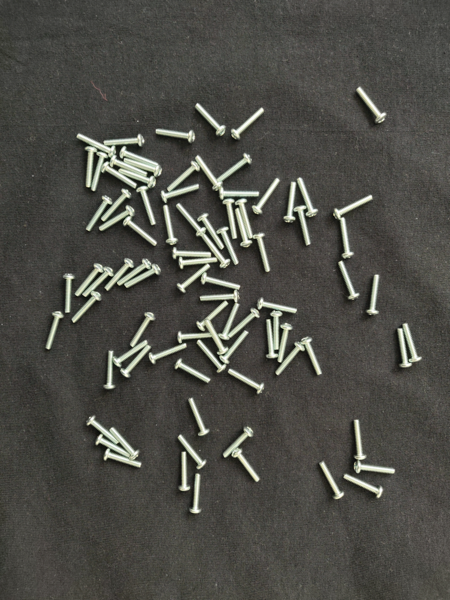longscrew: (354, 86, 390, 125), (198, 231, 231, 269), (335, 258, 362, 303), (221, 425, 255, 460), (230, 107, 265, 141), (251, 176, 280, 217), (194, 101, 227, 137), (215, 153, 253, 184), (342, 473, 385, 500), (166, 160, 201, 193), (100, 188, 133, 223), (103, 257, 135, 293), (176, 263, 212, 295), (122, 216, 158, 248), (177, 434, 208, 471), (333, 194, 375, 221), (84, 195, 113, 234), (196, 299, 230, 332), (318, 460, 346, 500), (196, 339, 228, 374), (109, 426, 141, 461), (120, 344, 152, 379), (85, 414, 121, 445), (112, 339, 149, 369), (194, 154, 223, 192), (173, 357, 212, 385), (75, 132, 117, 158), (82, 266, 115, 299), (70, 291, 102, 325), (175, 202, 206, 237), (227, 369, 267, 396), (232, 448, 262, 484), (102, 161, 139, 190), (128, 311, 156, 349), (197, 212, 225, 250), (276, 342, 306, 377), (220, 330, 250, 365), (74, 263, 104, 298), (116, 258, 152, 287), (296, 175, 320, 218), (98, 206, 136, 233), (228, 308, 261, 339), (216, 225, 240, 267), (186, 397, 211, 437), (94, 434, 132, 460), (124, 264, 162, 290), (300, 336, 324, 377), (135, 186, 158, 227), (204, 318, 229, 355), (119, 146, 161, 168), (217, 302, 240, 342), (401, 323, 423, 364), (102, 448, 143, 470), (109, 154, 148, 177), (234, 198, 255, 240), (122, 157, 164, 178), (149, 343, 189, 365), (43, 311, 65, 351), (293, 205, 314, 246), (90, 151, 110, 193), (117, 168, 157, 189), (234, 207, 254, 248), (200, 272, 243, 291), (161, 204, 180, 247), (338, 216, 356, 261), (161, 184, 201, 204), (252, 232, 271, 274), (257, 296, 298, 315), (396, 327, 414, 369), (352, 419, 370, 461), (155, 127, 197, 145), (277, 322, 294, 365), (352, 460, 396, 476), (367, 272, 382, 318), (222, 198, 238, 240), (188, 473, 203, 516), (218, 187, 261, 202), (103, 133, 146, 148), (265, 318, 280, 360), (170, 246, 212, 261), (283, 180, 297, 224), (177, 451, 191, 493), (177, 256, 219, 270), (84, 144, 97, 189), (176, 330, 216, 344), (199, 291, 242, 304), (103, 349, 116, 391), (270, 310, 283, 351), (62, 273, 75, 314)
